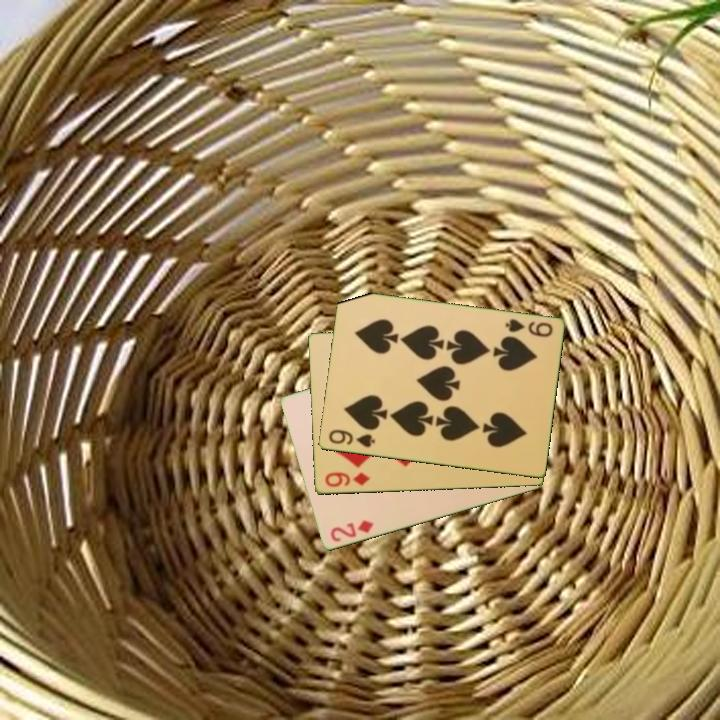2d: (327, 516, 376, 545)
9d: (321, 469, 373, 490)
9s: (501, 315, 555, 340), (325, 426, 377, 451)
